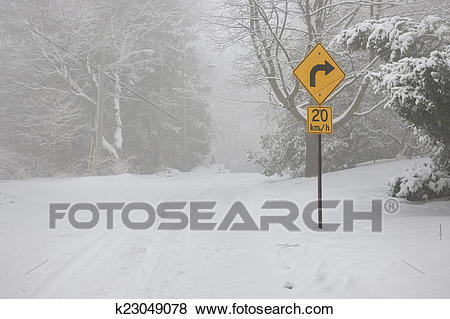right: (290, 41, 347, 108)
